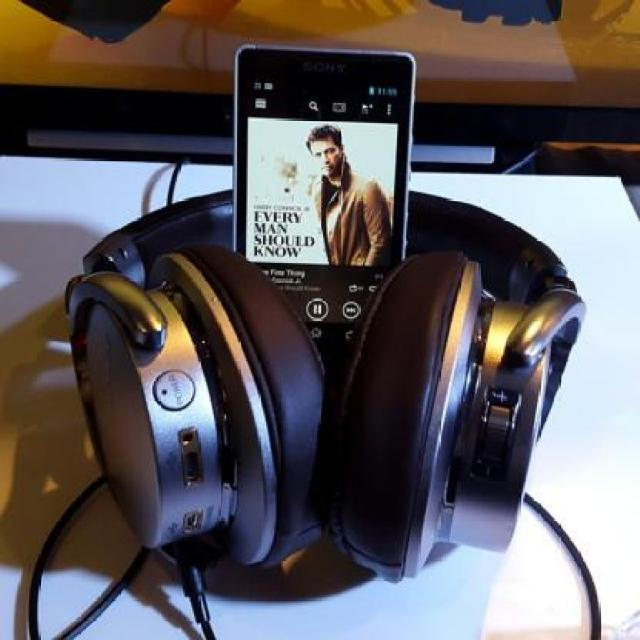earphone: (107, 200, 595, 613)
smart phone: (226, 39, 412, 328)
